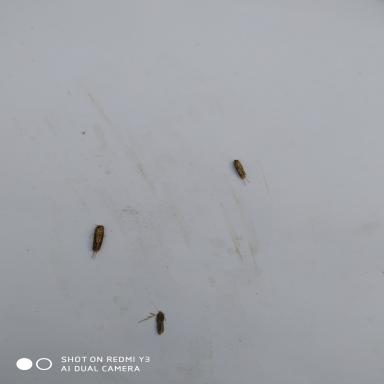pbw: (226, 155, 255, 188), (86, 222, 108, 260), (152, 309, 170, 338)
